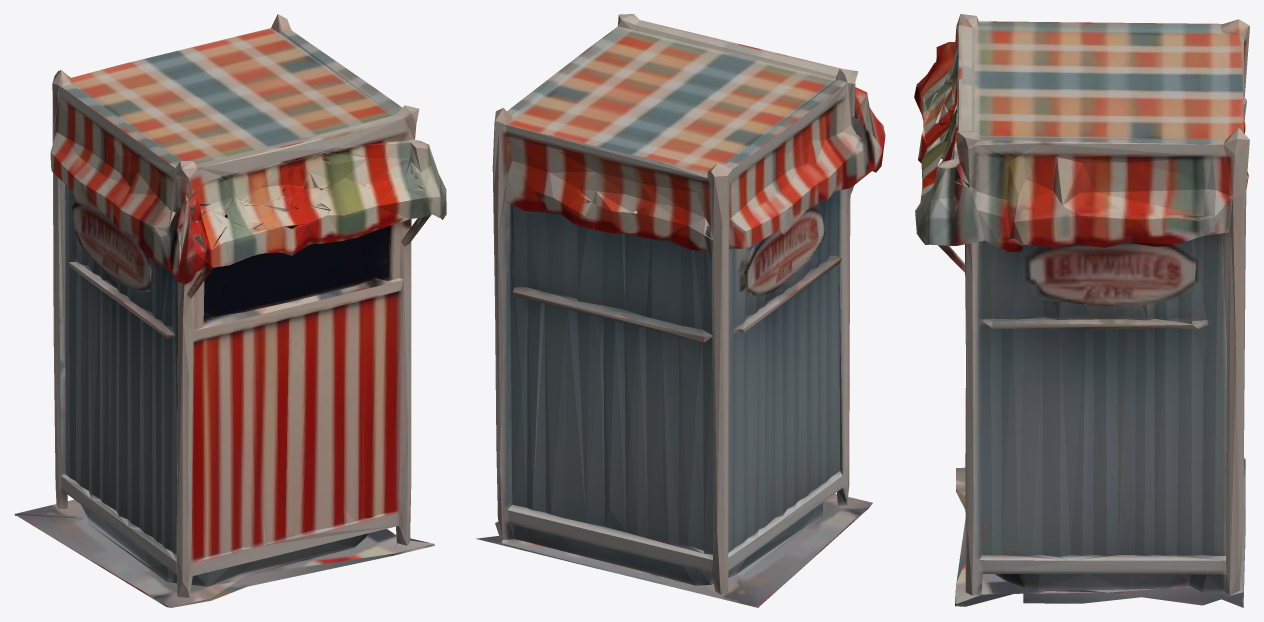
The model's file is photo_booth.glb.
3 renders of one model, left to right at view 1: azimuth 30°, elevation 25°; view 2: azimuth 150°, elevation 25°; view 3: azimuth 270°, elevation 25°, orthographic. The views are drawn at different scales.
Visible parts, largest first — view 1: textured_mesh.obj; view 2: textured_mesh.obj; view 3: textured_mesh.obj.
Boxes of the visible parts, x1,y1,x2,y2 form: textured_mesh.obj: [14, 14, 446, 607]; textured_mesh.obj: [476, 14, 885, 607]; textured_mesh.obj: [914, 14, 1249, 607].
Size of the model in its own units: 1.64 by 2.4 by 1.56.
1 material, 1 textured.
